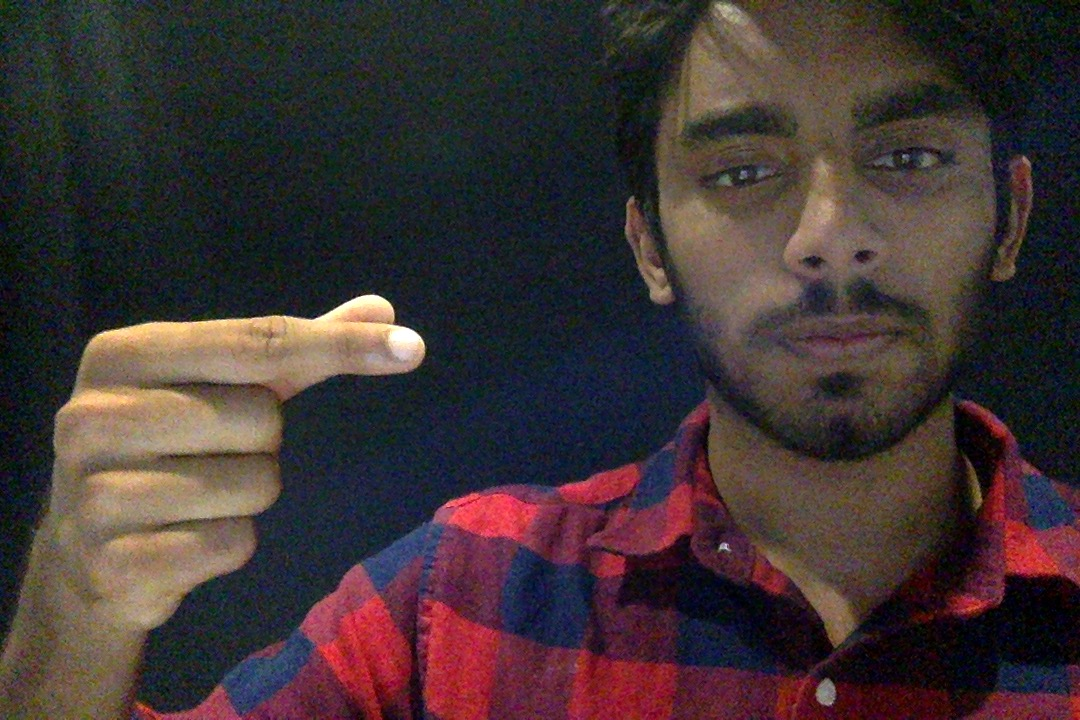g: (19, 274, 445, 627)
